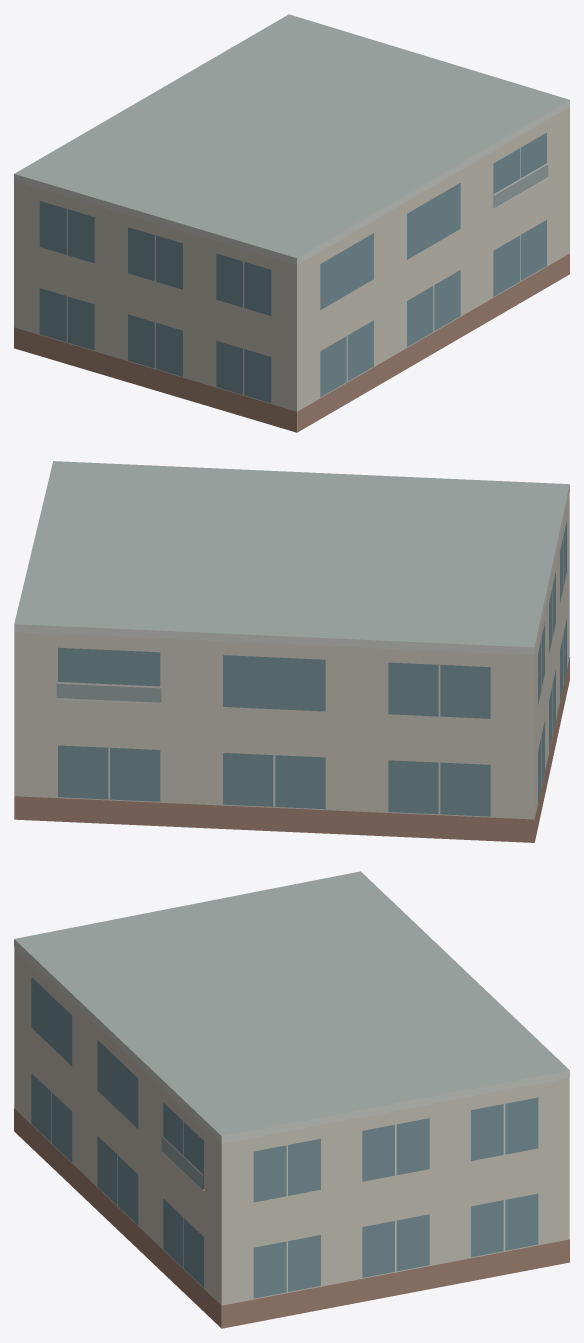
The model's file is survey-upis-32949026.glb.
The picture shows the model from 3 angles, top to bottom: view 1: azimuth 30°, elevation 25°; view 2: azimuth 150°, elevation 25°; view 3: azimuth 270°, elevation 25°; orthographic projection. The views are drawn at different scales.
Parts seen in each view (by area): view 1: survey-upis-32949026.tmp; view 2: survey-upis-32949026.tmp; view 3: survey-upis-32949026.tmp.
Part boxes in pixels (<box>): survey-upis-32949026.tmp: <box>14,14,569,432</box>; survey-upis-32949026.tmp: <box>14,461,569,842</box>; survey-upis-32949026.tmp: <box>14,871,569,1328</box>.
Size of the model in its own units: 18.04 by 6.1 by 15.99.
